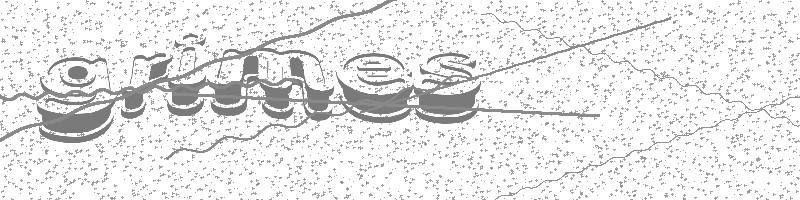e: (334, 51, 416, 123)
g: (31, 55, 116, 146)
i: (170, 30, 209, 122)
m: (208, 42, 336, 120)
r: (119, 48, 171, 120)
s: (413, 46, 483, 124)
